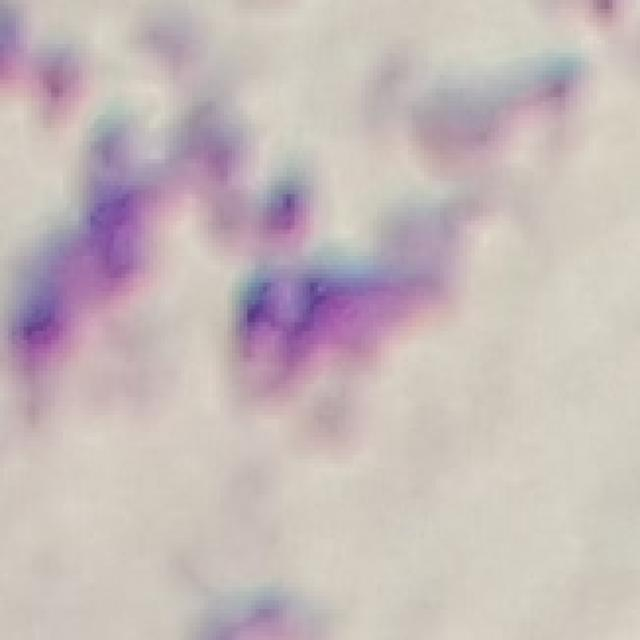non-sperm: (99, 122, 482, 424)
